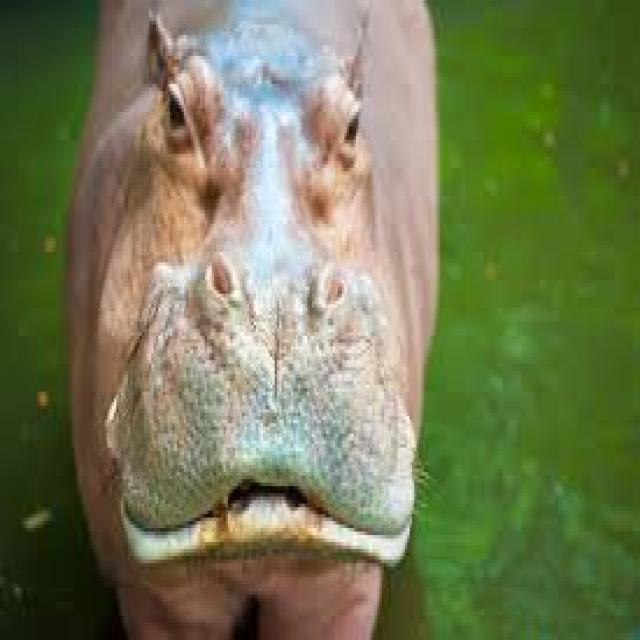Hippopotamus: (76, 5, 429, 640)
